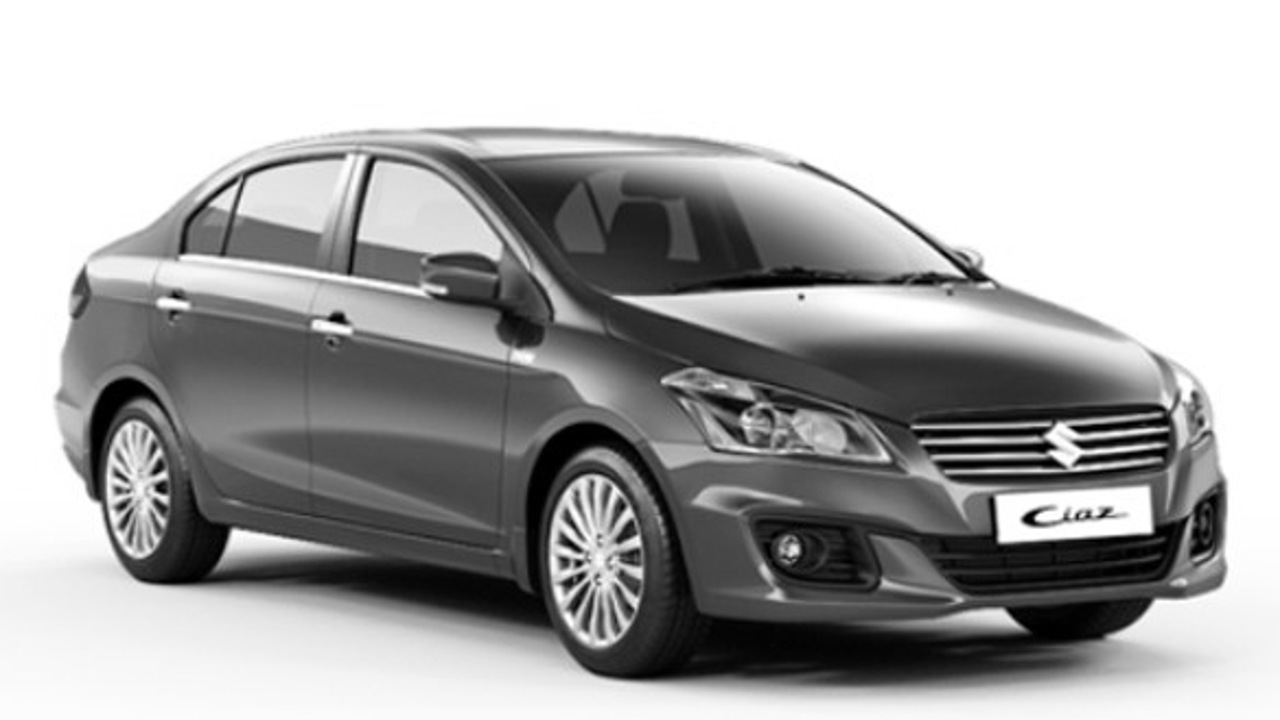license: (981, 484, 1158, 550)
